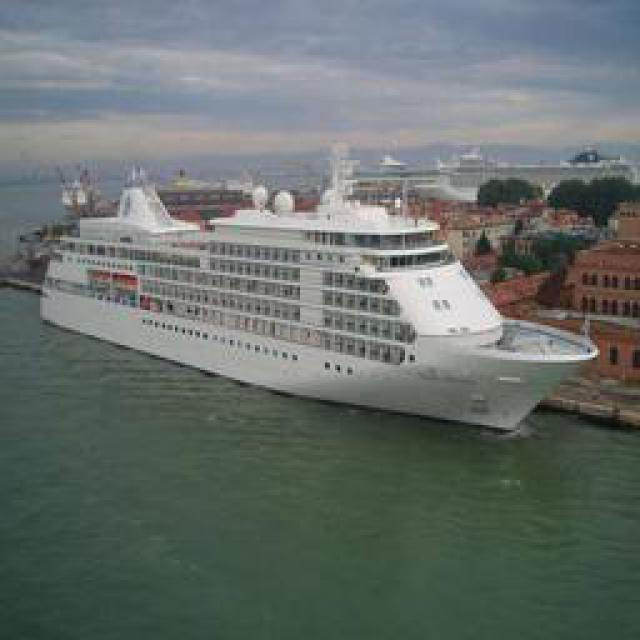Ship: (39, 163, 599, 428)
